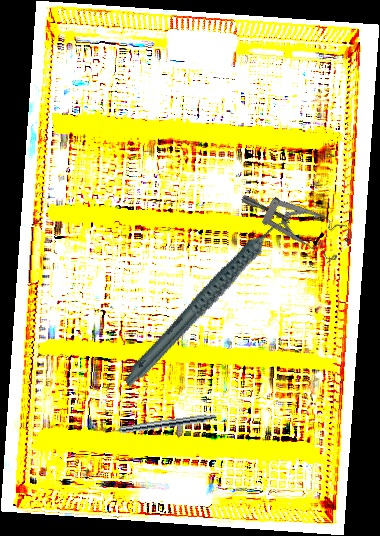Handpiece: (97, 215, 319, 390), (98, 410, 218, 438)
Speculum: (239, 157, 359, 281)
